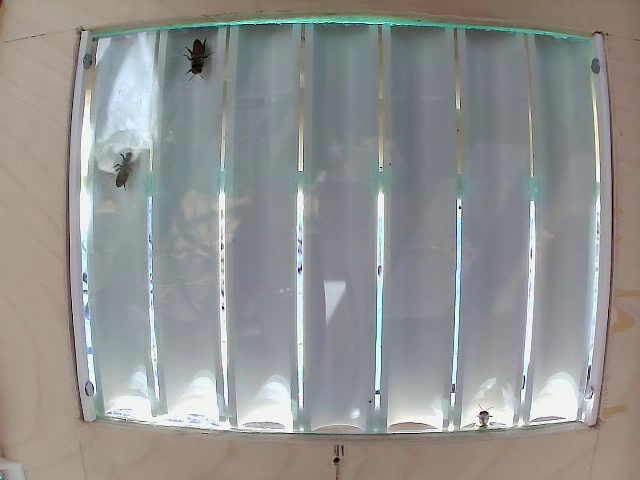bee: (110, 143, 148, 195), (187, 33, 221, 84)
